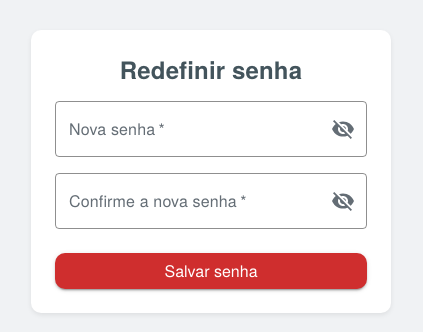
Test: ResetPassword › should say the account was banned and keep the form
The width and height of the screenshot is (423, 332).
Type "senha-nova-1" into the password field labelled "Nova senha *" at x=185, y=129, box [55, 101, 315, 157]
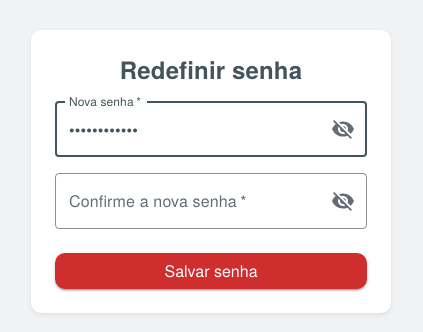
Type "senha-nova-1" into the password field labelled "Confirme a nova senha *" at x=185, y=201, box [55, 173, 315, 229]
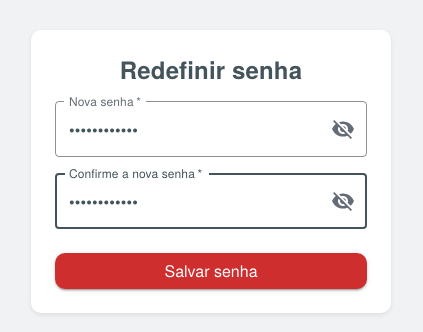
Click the button "Salvar senha" at x=211, y=271, box [55, 253, 367, 289]
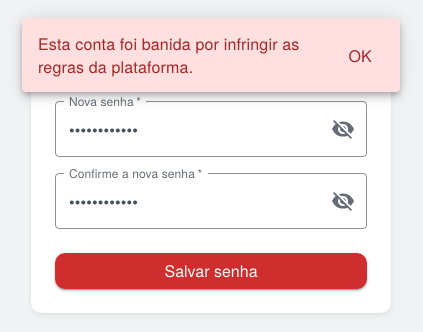
Check: the heading "Redefinir senha" is shown, box [120, 52, 302, 86]
Check: the text "Esta conta foi banida por infringir as regras da plataforma." is shown, box [22, 18, 328, 92]
